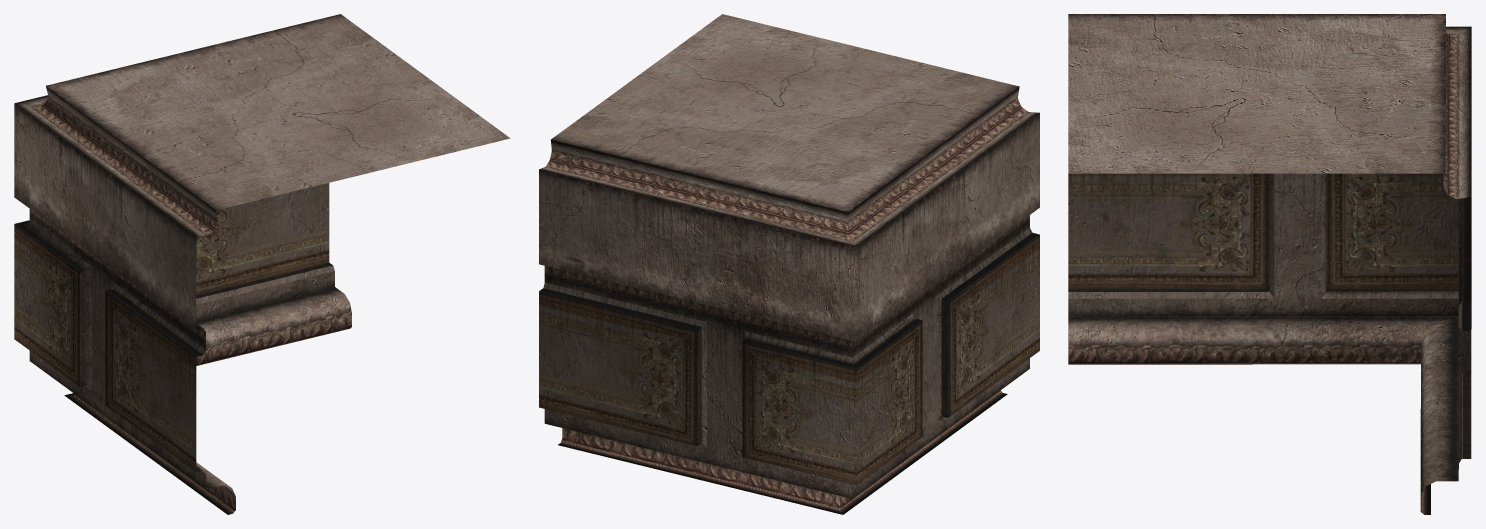
File: 42_corner_concave_short.dae
The picture shows the model from 3 angles, left to right: view 1: azimuth 30°, elevation 25°; view 2: azimuth 150°, elevation 25°; view 3: azimuth 270°, elevation 25°; orthographic projection. The views are drawn at different scales.
Visible parts, largest first — view 1: corner_concave_short; view 2: corner_concave_short; view 3: corner_concave_short.
Part boxes in pixels (x1,y1,x2,y2): corner_concave_short: (14, 14, 510, 514); corner_concave_short: (539, 14, 1039, 514); corner_concave_short: (1068, 14, 1471, 514).
Bounding box in the file's own units: 2 × 1.87 × 2.
